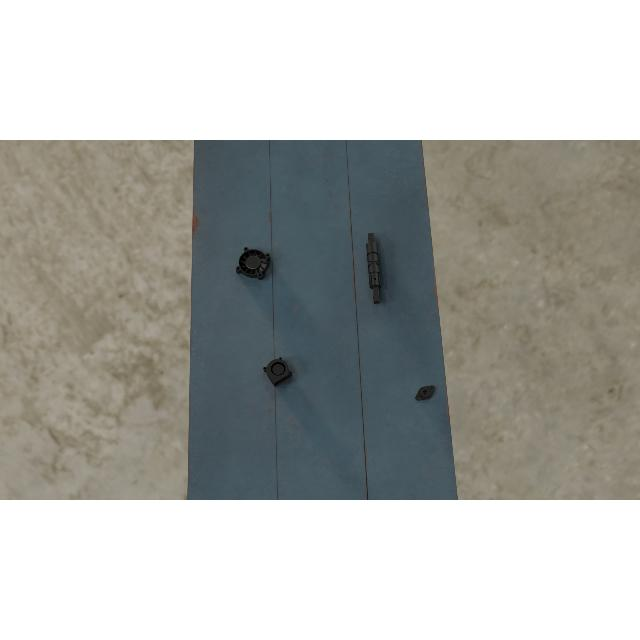Pieza1: (366, 232, 382, 304)
Pieza2: (412, 382, 438, 404)
Pieza3: (262, 354, 294, 388)
Pieza4: (234, 246, 272, 282)
